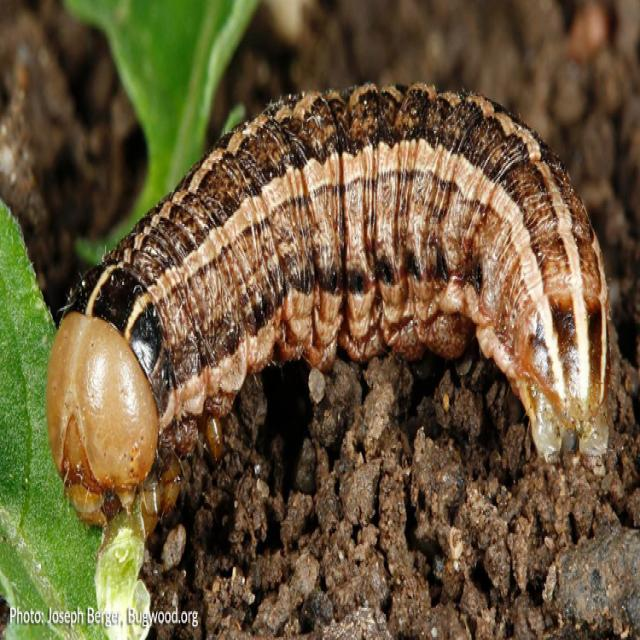worm: (45, 79, 612, 539)
